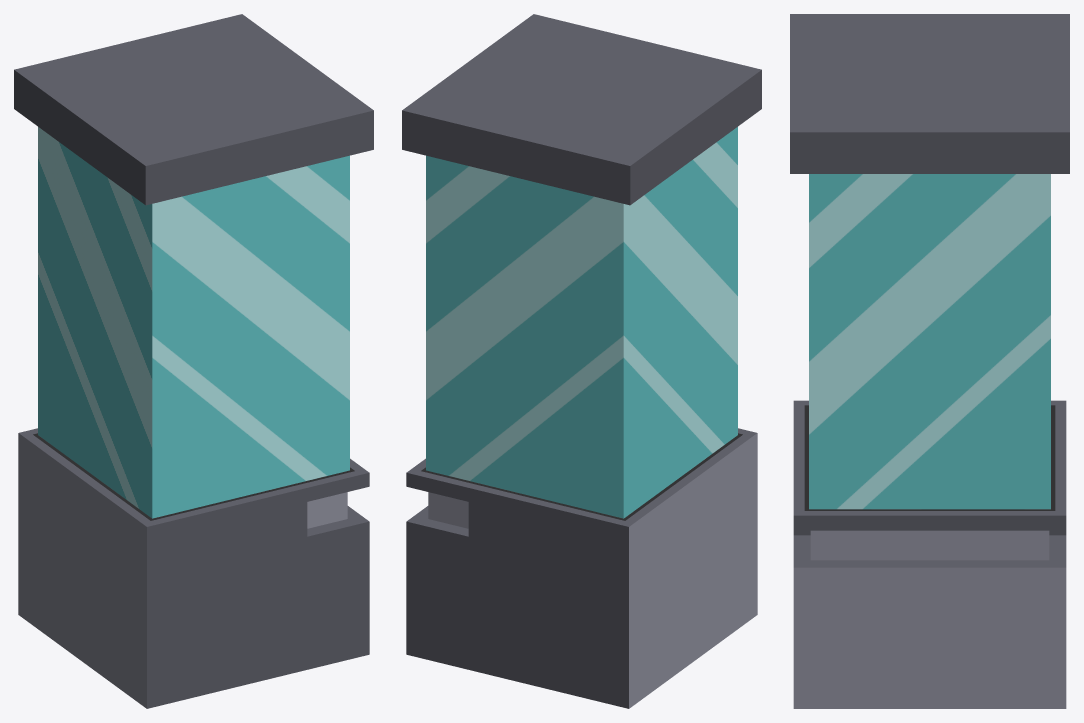
The model's file is CottonCandy.fbx.
3 views of the same model, side by side, from view 1: azimuth 30°, elevation 25°; view 2: azimuth 150°, elevation 25°; view 3: azimuth 270°, elevation 25° (orthographic). The views are drawn at different scales.
Parts seen in each view (by area): view 1: CottonCandy; view 2: CottonCandy; view 3: CottonCandy.
Part boxes in pixels (bbox=[...]): CottonCandy: bbox=[14, 14, 373, 708]; CottonCandy: bbox=[402, 14, 761, 708]; CottonCandy: bbox=[790, 14, 1069, 708].
Bounding box in the file's own units: 73.84 × 168 × 73.84.
